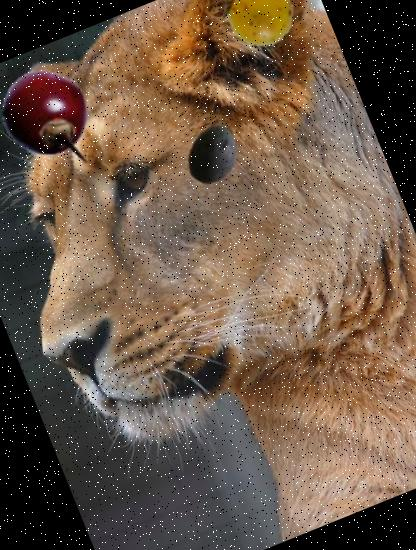Grape: (221, 0, 303, 56)
Plum: (173, 114, 254, 194)
Tamarillo: (0, 53, 108, 177)
